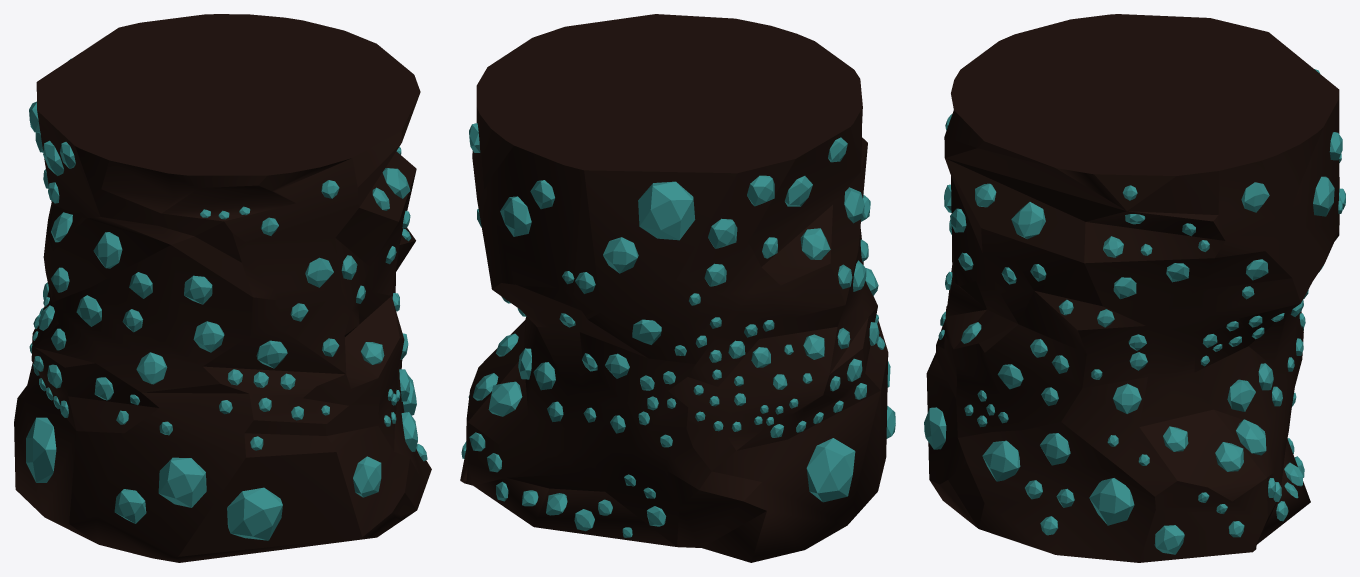
Rendered from Gem_7_1.fbx.
3 views of the same model, side by side, from view 1: azimuth 30°, elevation 25°; view 2: azimuth 150°, elevation 25°; view 3: azimuth 270°, elevation 25° (orthographic).
Parts seen in each view (by area): view 1: Rock_7_1, Vert.239, Vert.241, Vert.238, Vert.240, Vert.242, Vert.254, Vert.351, Vert.352, Vert.252, Vert.353, Vert.249 (+2 smaller); view 2: Rock_7_1, Vert.260, Vert.238, Vert.231, Vert.192, Vert.181, Vert.288, Vert.286, Vert.287, Vert.255, Vert.237, Vert.254; view 3: Rock_7_1, Vert.227, Vert.226, Vert.210, Vert.181, Vert.240, Vert.225, Vert.320, Vert.319, Vert.192, Vert.182, Vert.212 (+1 smaller).
Boxes of the visible parts, x1,y1,x2,y2 form: Rock_7_1: [14, 14, 431, 562]; Vert.239: [227, 487, 282, 540]; Vert.241: [158, 457, 206, 507]; Vert.238: [26, 417, 56, 482]; Vert.240: [353, 456, 381, 497]; Vert.242: [114, 489, 146, 523]; Vert.254: [93, 232, 122, 268]; Vert.351: [136, 352, 167, 384]; Vert.352: [193, 321, 224, 352]; Vert.252: [184, 275, 212, 304]; Vert.353: [256, 340, 287, 368]; Vert.249: [305, 257, 333, 287]; Rock_7_1: [460, 14, 888, 562]; Vert.260: [638, 181, 695, 240]; Vert.238: [806, 438, 855, 502]; Vert.231: [603, 237, 638, 273]; Vert.192: [500, 196, 531, 236]; Vert.181: [488, 381, 522, 416]; Vert.288: [800, 228, 830, 259]; Vert.286: [708, 218, 737, 248]; Vert.287: [747, 175, 774, 206]; Vert.255: [784, 176, 812, 206]; Vert.237: [632, 319, 661, 344]; Vert.254: [844, 187, 864, 223]; Rock_7_1: [926, 14, 1339, 562]; Vert.227: [1089, 478, 1134, 525]; Vert.226: [982, 440, 1020, 481]; Vert.210: [1011, 202, 1045, 239]; Vert.181: [1236, 419, 1266, 455]; Vert.240: [924, 407, 946, 449]; Vert.225: [1040, 433, 1070, 465]; Vert.320: [1154, 525, 1184, 554]; Vert.319: [1215, 442, 1243, 471]; Vert.192: [1313, 176, 1334, 216]; Vert.182: [1227, 379, 1255, 411]; Vert.212: [1112, 383, 1141, 413].
Size of the model in its own units: 1525 by 1500 by 1504.
